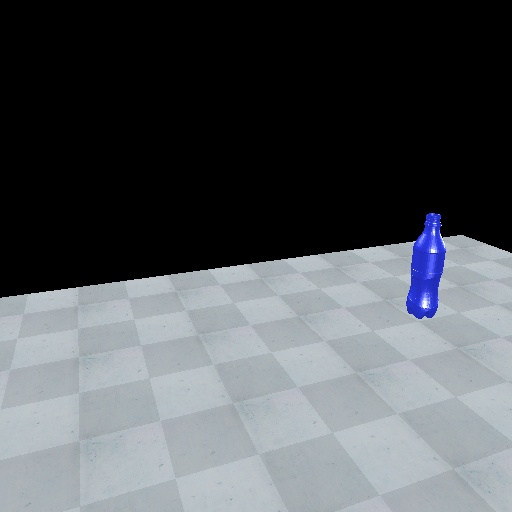bottle: (401, 210, 449, 321)
